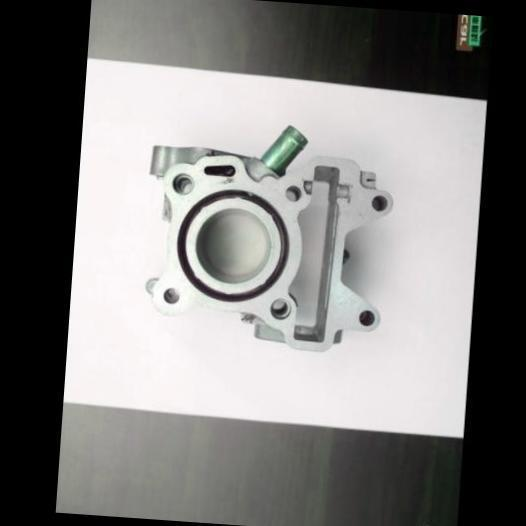hole: (168, 169, 196, 196), (268, 295, 292, 322), (283, 182, 304, 202), (357, 307, 377, 328), (162, 284, 181, 305), (371, 194, 389, 213)
